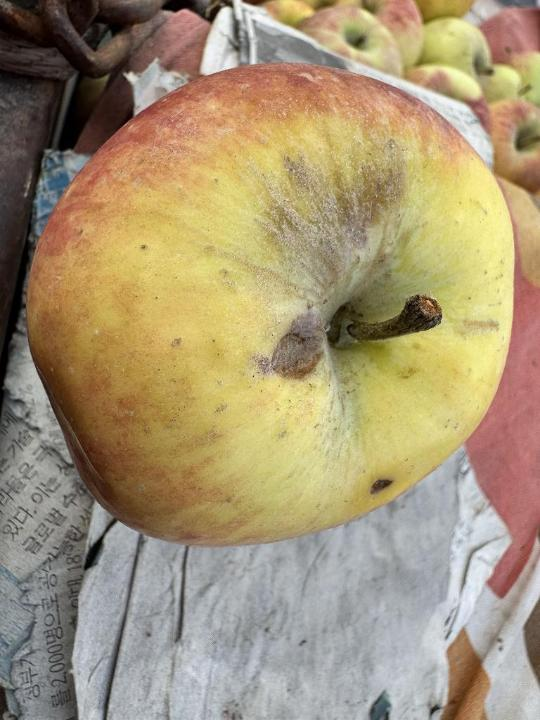apple: (27, 64, 514, 545)
bruise_discoloration: (231, 141, 404, 307)
rot_mold_decay: (254, 301, 331, 384)
